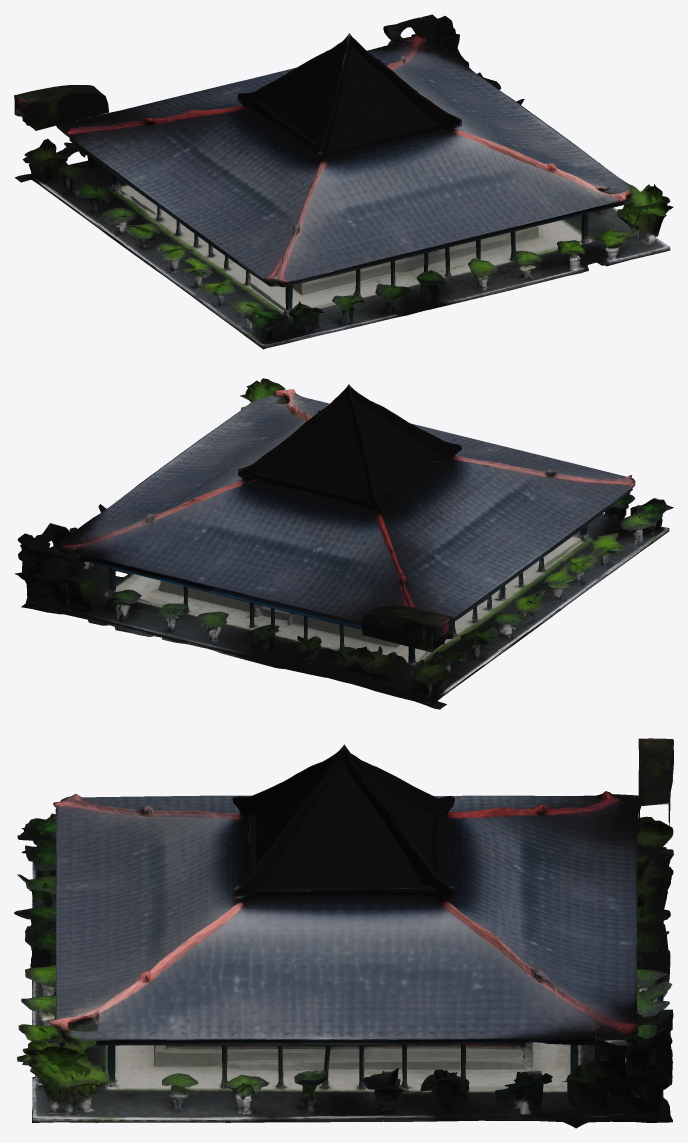
The model's file is daerah-istimewa-yogyakarta.glb.
3 renders of one model, top to bottom at view 1: azimuth 30°, elevation 25°; view 2: azimuth 150°, elevation 25°; view 3: azimuth 270°, elevation 25°, orthographic. The views are drawn at different scales.
Visible parts, largest first — view 1: world; view 2: world; view 3: world.
Boxes of the visible parts, <box> form: world: <box>14,14,673,349</box>; world: <box>14,378,673,709</box>; world: <box>14,738,673,1128</box>.
Bounding box in the file's own units: 0.7006 × 0.3207 × 0.6993.
1 material, 1 textured.
